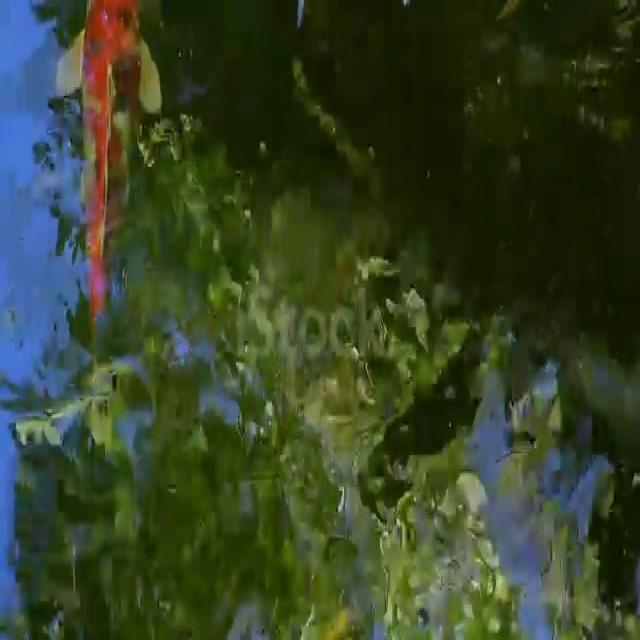fish: (60, 0, 171, 364)
